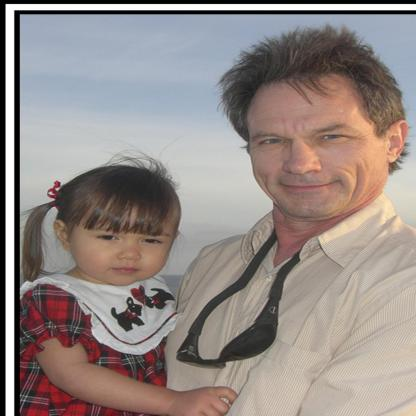face: (249, 72, 388, 217), (71, 197, 176, 285)
